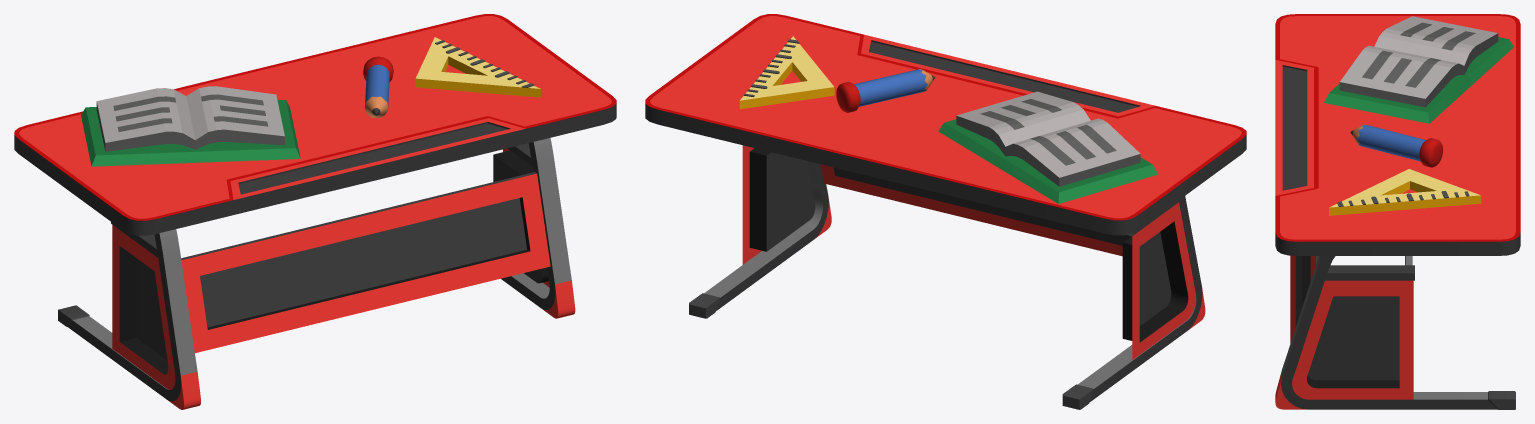
Rendered from Techer Table LEVEL-2-2.fbx.
3 views of the same model, side by side, from view 1: azimuth 30°, elevation 25°; view 2: azimuth 150°, elevation 25°; view 3: azimuth 270°, elevation 25° (orthographic). The views are drawn at different scales.
Visible parts, largest first — view 1: Techer Table LEVEL-2-2; view 2: Techer Table LEVEL-2-2; view 3: Techer Table LEVEL-2-2.
Part boxes in pixels (<box>): Techer Table LEVEL-2-2: <box>14,14,616,409</box>; Techer Table LEVEL-2-2: <box>645,14,1246,409</box>; Techer Table LEVEL-2-2: <box>1275,14,1520,409</box>.
Size of the model in its own units: 13.99 by 6.23 by 6.36.
